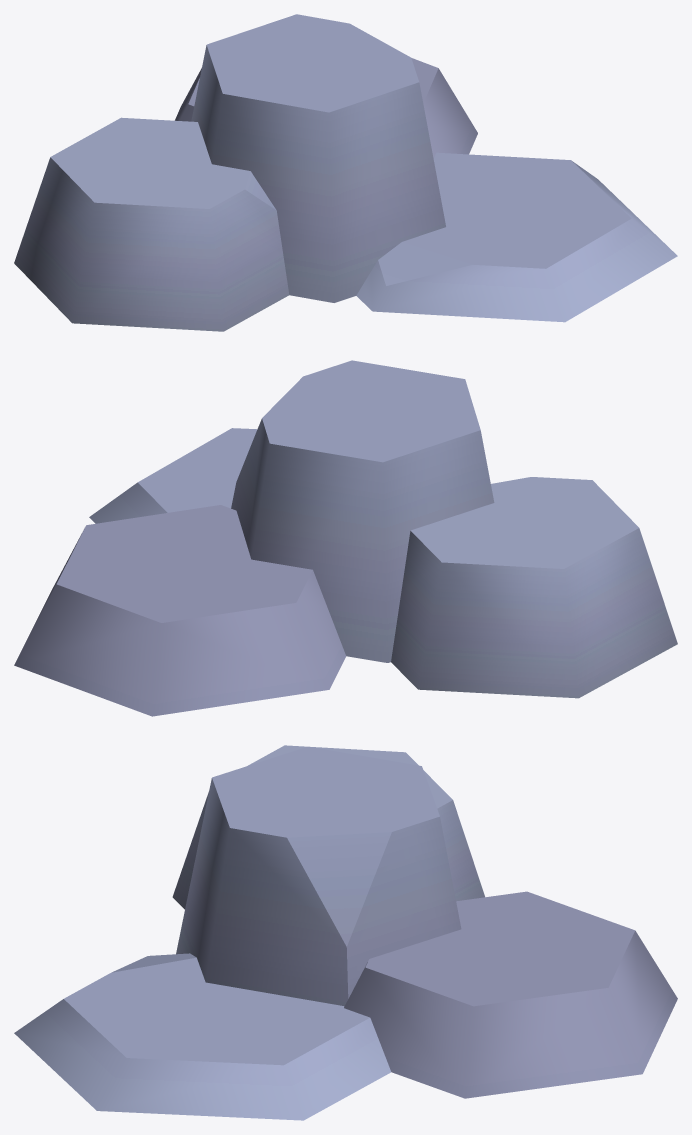
Rendered from kenney-tower-defense-detail-rocks.glb.
The picture shows the model from 3 angles, top to bottom: view 1: azimuth 30°, elevation 25°; view 2: azimuth 150°, elevation 25°; view 3: azimuth 270°, elevation 25°; orthographic projection. The views are drawn at different scales.
Visible parts, largest first — view 1: detail-rocks; view 2: detail-rocks; view 3: detail-rocks.
Boxes of the visible parts, x1=… form: detail-rocks: x1=14, y1=14, x2=677, y2=331; detail-rocks: x1=14, y1=360, x2=677, y2=716; detail-rocks: x1=14, y1=745, x2=677, y2=1120.
Bounding box in the file's own units: 0.5976 × 0.1844 × 0.6055.
1 material, 1 textured.
